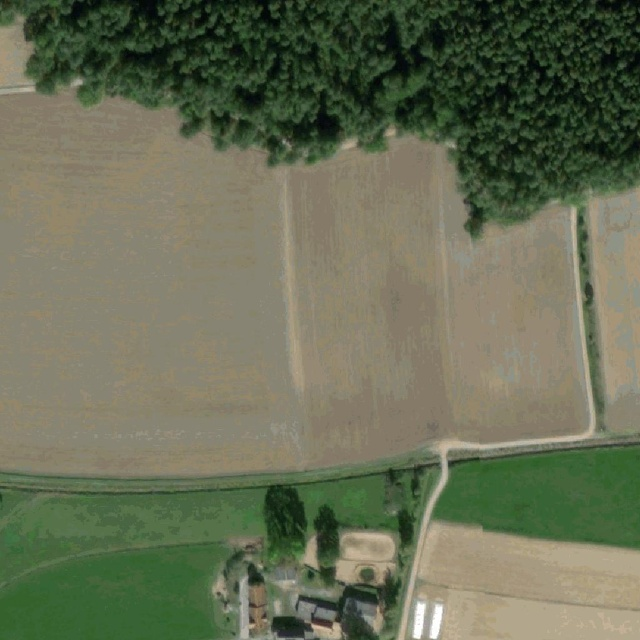vegetation: (264, 496, 304, 567), (315, 505, 337, 590)
